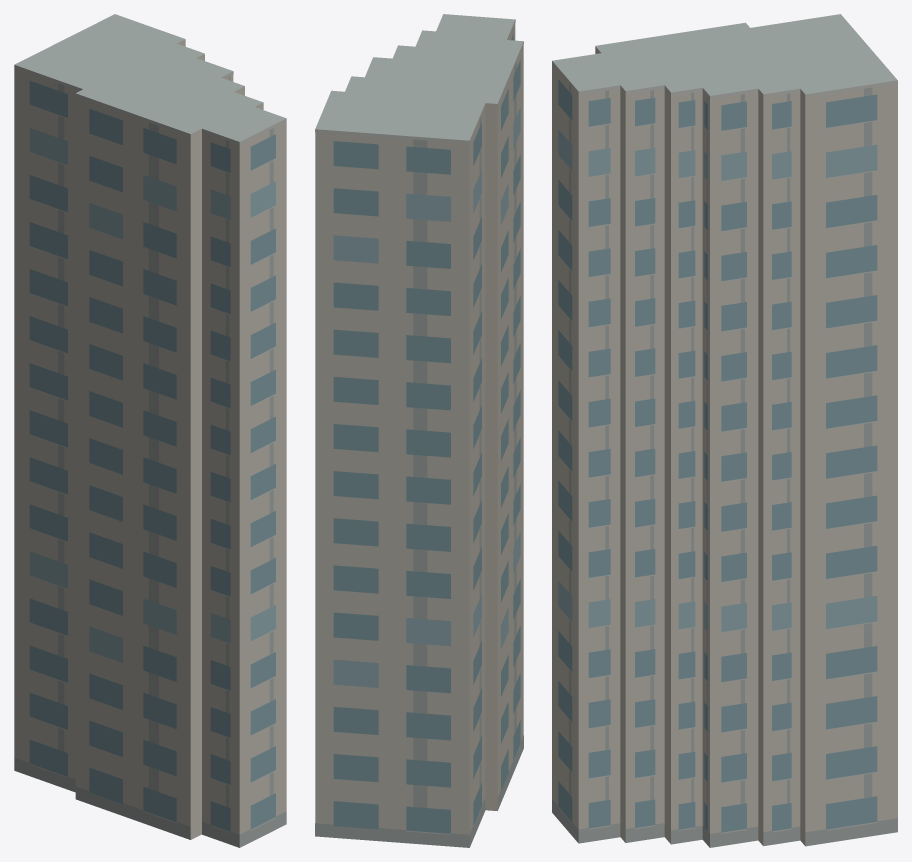
Rendered from residential-79dcb3ab-d3e1-4ea5-b843-2a25a32ec3e1.glb.
The picture shows the model from 3 angles, left to right: view 1: azimuth 30°, elevation 25°; view 2: azimuth 150°, elevation 25°; view 3: azimuth 270°, elevation 25°; orthographic projection. The views are drawn at different scales.
Visible parts, largest first — view 1: residential-79dcb3ab-d3e1-4ea5-b843-2a25a32ec3e1.tmp; view 2: residential-79dcb3ab-d3e1-4ea5-b843-2a25a32ec3e1.tmp; view 3: residential-79dcb3ab-d3e1-4ea5-b843-2a25a32ec3e1.tmp.
Part boxes in pixels (x1=…): residential-79dcb3ab-d3e1-4ea5-b843-2a25a32ec3e1.tmp: x1=14, y1=14, x2=286, y2=847; residential-79dcb3ab-d3e1-4ea5-b843-2a25a32ec3e1.tmp: x1=315, y1=14, x2=523, y2=847; residential-79dcb3ab-d3e1-4ea5-b843-2a25a32ec3e1.tmp: x1=552, y1=14, x2=897, y2=847.
Bounding box in the file's own units: 13.11 × 56 × 23.34.
